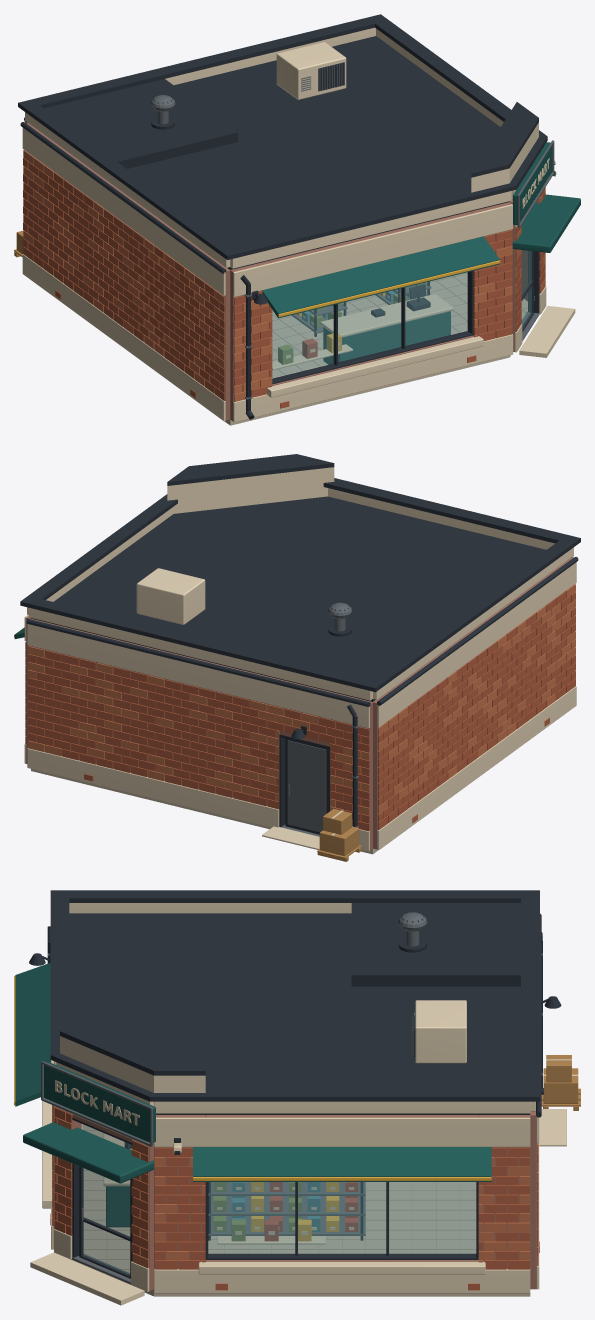
File: block-mart.glb
3 renders of one model, top to bottom at view 1: azimuth 30°, elevation 25°; view 2: azimuth 150°, elevation 25°; view 3: azimuth 270°, elevation 25°, orthographic. The views are drawn at different scales.
Visible parts, largest first — view 1: roof-navy, shell-cream, brick-detail-brick, roof-cream, glass-shop-glass, shell-teal, brick-detail-brick-warm, interior-floor, shell-brick-base, shell-navy, interior-teal, interior-cream (+7 smaller); view 2: roof-navy, brick-detail-brick, shell-cream, roof-cream, brick-detail-brick-warm, shell-brick-base, inset steel panel, shell-navy, interior-cardboard, interior-floor, steel door leaf; view 3: roof-navy, shell-cream, shell-teal, glass-shop-glass, roof-cream, interior-floor, brick-detail-brick, shell-metal, shell-brick-base, shell-navy, door glass, brick-detail-brick-warm (+9 smaller).
Part boxes in pixels (x1,y1,x2,y2): roof-navy: (18, 14, 547, 273); shell-cream: (22, 122, 575, 422); brick-detail-brick: (23, 158, 545, 400); roof-cream: (25, 27, 538, 268); glass-shop-glass: (272, 272, 466, 377); shell-teal: (262, 142, 580, 318); brick-detail-brick-warm: (23, 150, 545, 401); interior-floor: (224, 272, 527, 425); shell-brick-base: (26, 122, 539, 421); shell-navy: (240, 161, 555, 419); interior-teal: (323, 311, 450, 364); interior-cream: (320, 294, 453, 337); roof-navy: (20, 454, 580, 706); brick-detail-brick: (25, 591, 575, 831); shell-cream: (24, 556, 576, 850); roof-cream: (27, 467, 573, 700); brick-detail-brick-warm: (25, 584, 575, 815); shell-brick-base: (26, 557, 572, 850); inset steel panel: (287, 740, 326, 832); shell-navy: (279, 704, 357, 826); interior-cardboard: (317, 808, 361, 861); interior-floor: (31, 769, 378, 854); steel door leaf: (285, 738, 329, 834); roof-navy: (50, 890, 541, 1117); shell-cream: (30, 1060, 566, 1305); shell-teal: (15, 963, 491, 1183); glass-shop-glass: (82, 1124, 475, 1252); roof-cream: (54, 903, 535, 1113); interior-floor: (71, 1124, 530, 1296); brick-detail-brick: (52, 1105, 538, 1269); shell-metal: (41, 953, 542, 1283); shell-brick-base: (53, 1061, 536, 1291); shell-navy: (29, 926, 561, 1261); door glass: (82, 1168, 129, 1274); brick-detail-brick-warm: (52, 1118, 538, 1268).
Size of the model in its own units: 11.22 by 5.42 by 12.05.
